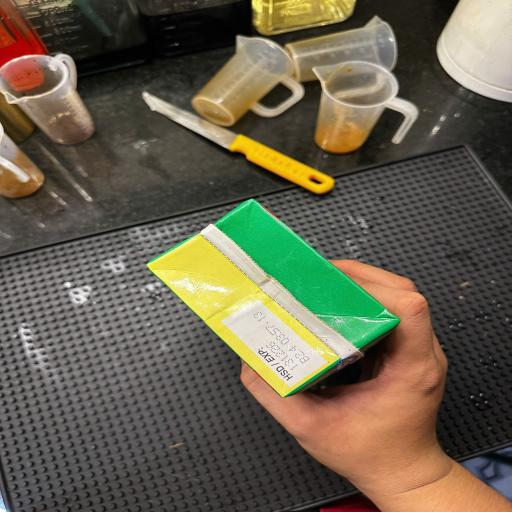sua_dac: (133, 177, 432, 405)
